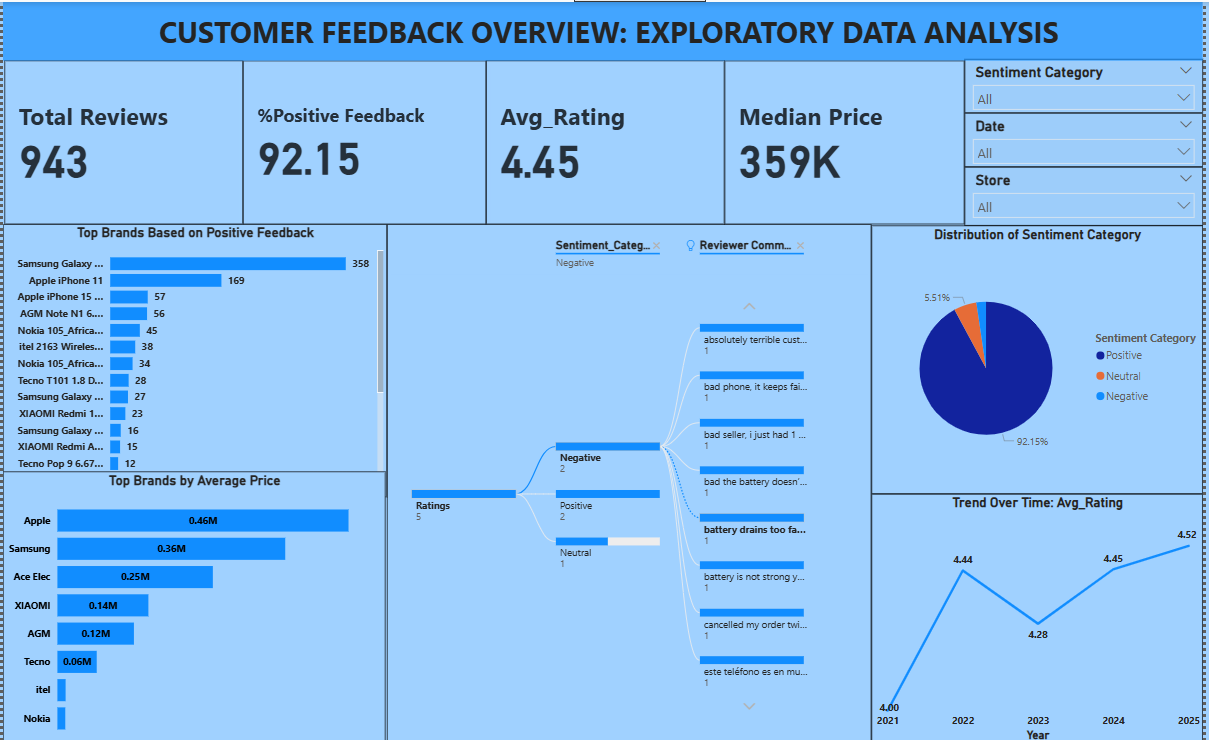

The page's visual inventory and layout, read from the dashboard file:
{"tool":"powerbi","page":{"name":"Customer Feedback Overview","canvas":[1500,928],"ordinal":0},"visuals":[{"type":"cardVisual","fields":{"Data":["combined_scrapped_reviews.Total_Reviews"]},"box":[1.9,73.1,298.1,204.3],"z":0},{"type":"cardVisual","fields":{"Data":["combined_scrapped_reviews.Avg_Rating"]},"box":[603.7,73.1,298.1,204.3],"z":1000},{"type":"lineChart","title":"Trend Over Time: Avg_Rating","fields":{"Category":["combined_scrapped_reviews.Review Date.Variation.Date Hierarchy.Year","combined_scrapped_reviews.Review Date.Variation.Date Hierarchy.Quarter","combined_scrapped_reviews.Review Date.Variation.Date Hierarchy.Month","combined_scrapped_reviews.Review Date.Variation.Date Hierarchy.Day"],"Y":["combined_scrapped_reviews.Avg_Rating"]},"box":[1085.5,614.9,414.3,313.1],"z":2000},{"type":"barChart","title":"Top Brands Based on Positive Feedback","fields":{"Category":["combined_scrapped_reviews.Product Name.1"],"Y":["combined_scrapped_reviews.Total_Reviews"]},"box":[0,277.5,479.9,341.2],"z":3000},{"type":"cardVisual","fields":{"Data":["combined_scrapped_reviews.%Positive Feedback"]},"box":[300,73.1,303.7,204.3],"z":4000},{"type":"slicer","fields":{"Values":["combined_scrapped_reviews.Sentiment_Category"]},"box":[1201.7,71.2,298.1,67.5],"z":5000},{"type":"shape","box":[0,0,1499.4,73.3],"z":6000},{"type":"cardVisual","fields":{"Data":["Median(combined_scrapped_reviews.Price)"]},"box":[901.8,73.1,300,204.3],"z":7000},{"type":"slicer","fields":{"Values":["combined_scrapped_reviews.Review Date.Variation.Date Hierarchy.Year","combined_scrapped_reviews.Review Date.Variation.Date Hierarchy.Quarter","combined_scrapped_reviews.Review Date.Variation.Date Hierarchy.Month","combined_scrapped_reviews.Review Date.Variation.Date Hierarchy.Day"]},"box":[1201.7,138.7,298.1,67.5],"z":8000},{"type":"clusteredBarChart","title":"Top Brands by Average Price","fields":{"Category":["combined_scrapped_reviews.Brand"],"Y":["Avg(combined_scrapped_reviews.Price)"]},"box":[0,586.8,478.1,341.2],"z":9000},{"type":"pieChart","title":"Distribution of Sentiment Category","fields":{"Y":["CountNonNull(combined_scrapped_reviews.Sentiment_Category)"],"Category":["combined_scrapped_reviews.Sentiment_Category"]},"box":[1085.5,279.3,414.3,335.6],"z":10000},{"type":"slicer","fields":{"Values":["combined_scrapped_reviews.Store"]},"box":[1201.7,206.2,298.1,73.1],"z":11000},{"type":"decompositionTreeVisual","fields":{"ExplainBy":["combined_scrapped_reviews.Sentiment_Category","combined_scrapped_reviews.Reviewer Comment"],"Analyze":["Count(combined_scrapped_reviews.Rating)"]},"box":[479.9,277.5,605.5,650.5],"z":12000}]}

Visuals, with their boxes in screenshot pixels (x1, y1, x2, y2), scaled from the page's 1500x928 canvas onto the 1209x740 screenshot:
cardVisual - combined_scrapped_reviews.Total_Reviews: box=[2, 58, 242, 221]
cardVisual - combined_scrapped_reviews.Avg_Rating: box=[487, 58, 727, 221]
"Trend Over Time: Avg_Rating" lineChart: box=[875, 490, 1208, 739]
"Top Brands Based on Positive Feedback" barChart: box=[0, 221, 387, 493]
cardVisual - combined_scrapped_reviews.%Positive Feedback: box=[242, 58, 487, 221]
slicer - combined_scrapped_reviews.Sentiment_Category: box=[969, 57, 1208, 111]
shape: box=[0, 0, 1208, 58]
cardVisual - Median(combined_scrapped_reviews.Price): box=[727, 58, 969, 221]
slicer - combined_scrapped_reviews.Review Date.Variation.Date Hierarchy.Year x combined_scrapped_reviews.Review Date.Variation.Date Hierarchy.Quarter: box=[969, 111, 1208, 164]
"Top Brands by Average Price" clusteredBarChart: box=[0, 468, 385, 739]
"Distribution of Sentiment Category" pieChart: box=[875, 223, 1208, 490]
slicer - combined_scrapped_reviews.Store: box=[969, 164, 1208, 223]
decompositionTreeVisual - combined_scrapped_reviews.Sentiment_Category x combined_scrapped_reviews.Reviewer Comment: box=[387, 221, 875, 739]
